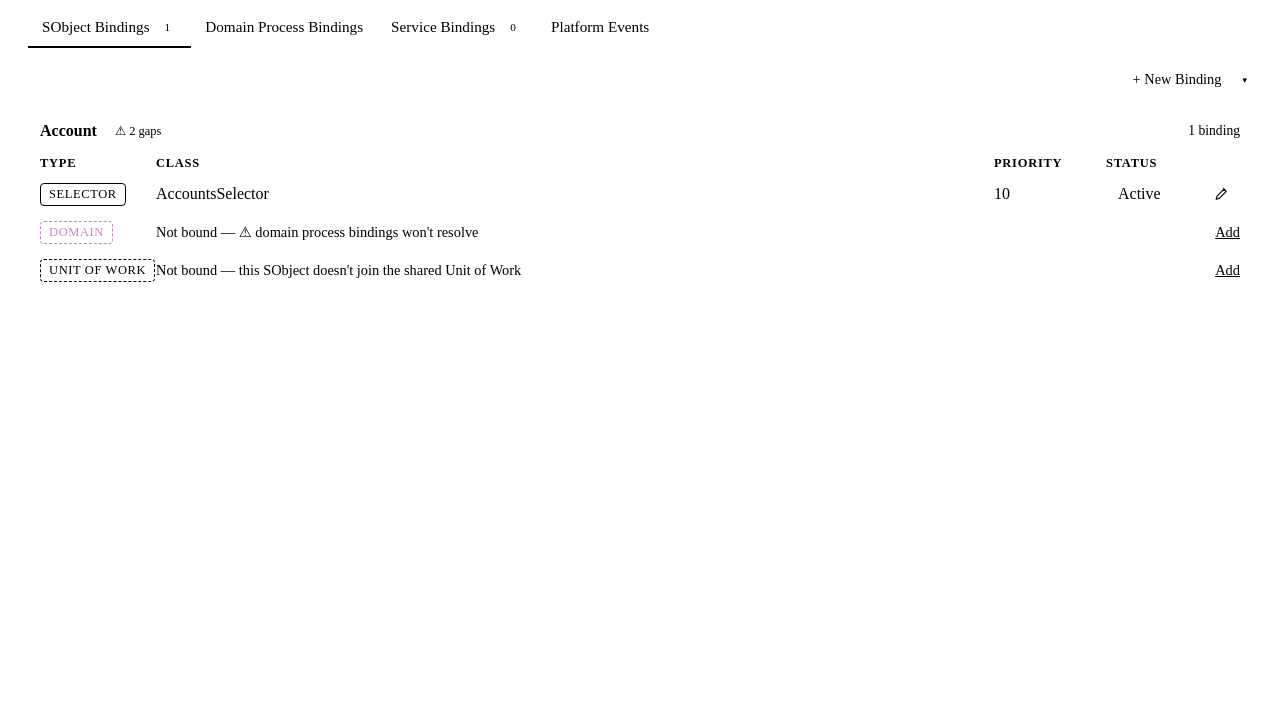
it: App — Application Factory create/edit form (stage 2) › opens the edit form prefilled from the clicked row, with no control to switch its type
Click the button titled "Edit this binding": x=1221, y=194 [1214,187,1228,201]
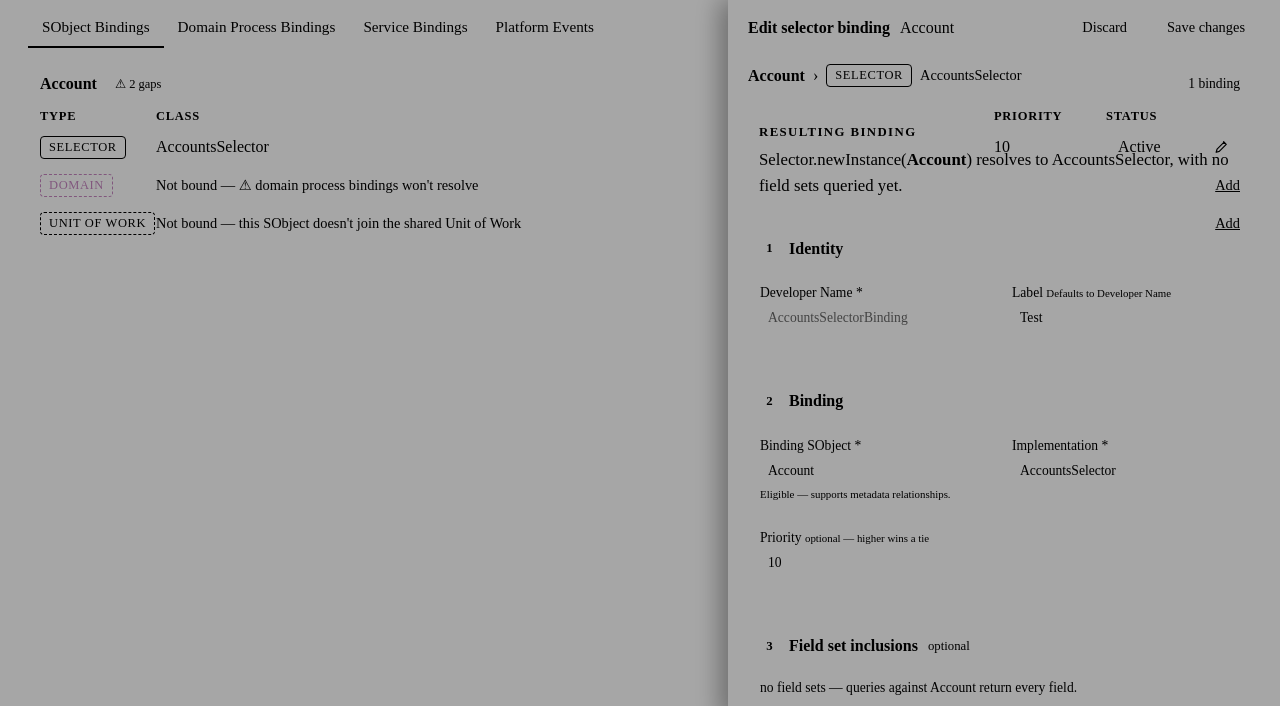
Check: the text "Edit selector binding" is shown, box [748,18,890,36]
Check: the field with id "fDeveloperName" holds "AccountsSelectorBinding", box [760,305,996,331]
Check: the field with id "fDeveloperName" is disabled, box [760,305,996,331]
